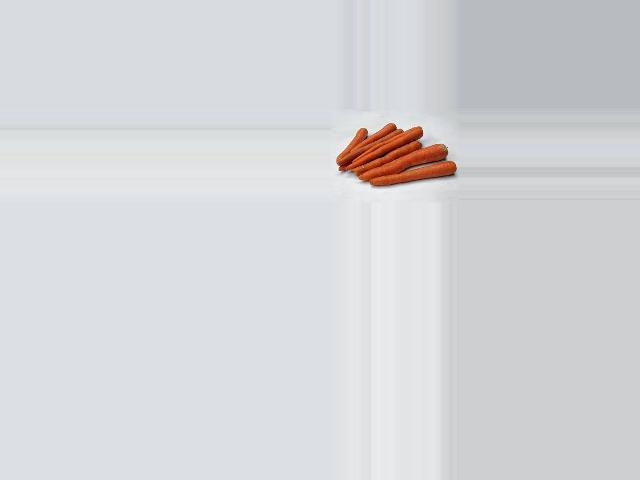carrot: (334, 120, 365, 168)
